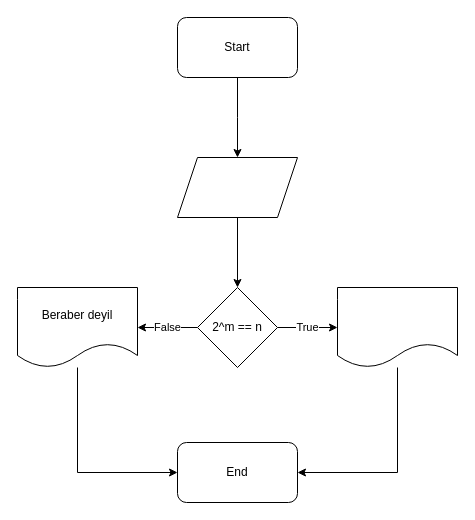
Some shapes in this 475 by 520 pixel diagram are drawn without their labels. Each missing label, with the box of its shape:
Barebardir: (336, 286, 458, 368)
n, m: (176, 156, 298, 218)
